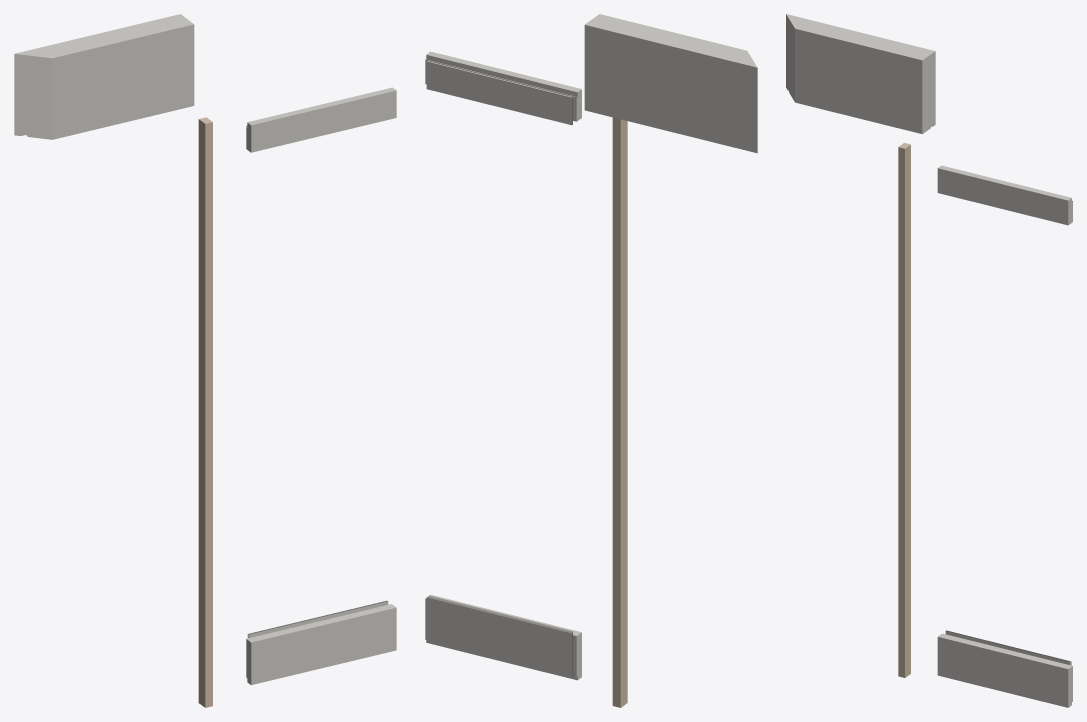
3 views of the same model, side by side, from view 1: azimuth 30°, elevation 25°; view 2: azimuth 150°, elevation 25°; view 3: azimuth 330°, elevation 25° (orthographic). The views are drawn at different scales.
Size of the model in its own units: 1.64 by 3.02 by 0.2912.
